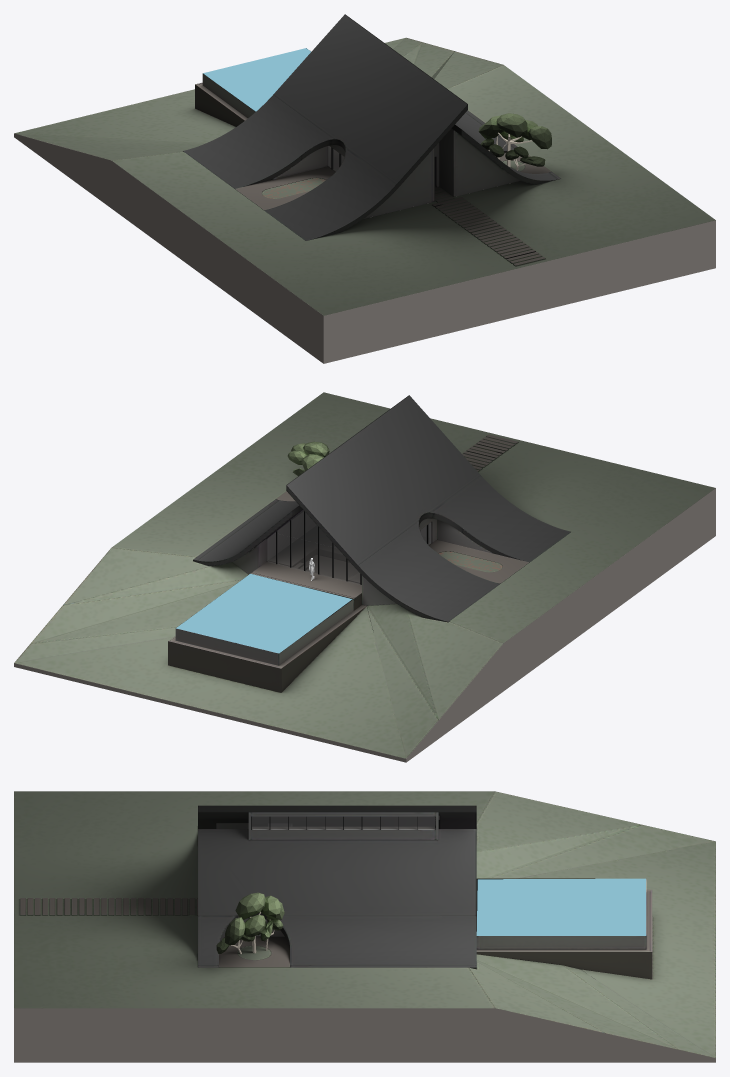
Rendered from cabana-tusa.glb.
3 views of the same model, one above another, from view 1: azimuth 30°, elevation 25°; view 2: azimuth 150°, elevation 25°; view 3: azimuth 270°, elevation 25° (orthographic). The views are drawn at different scales.
Visible parts, largest first — view 1: C-TOPO, TOPO, A-ROOF, I-WALL, A-FLOR, Plano, 3DGeom-1; view 2: C-TOPO, A-ROOF, TOPO, A-FLOR, Plano, I-WALL, A-GLAZ-CURT, 3DGeom-1; view 3: C-TOPO, A-ROOF, TOPO, Plano, A-FLOR, I-WALL, 3DGeom-1, A-GLAZ-CURT.
Boxes of the visible parts, x1,y1,x2,y2 form: C-TOPO: (14, 37, 715, 315); TOPO: (14, 133, 715, 363); A-ROOF: (183, 14, 560, 240); I-WALL: (202, 48, 520, 218); A-FLOR: (195, 82, 551, 265); Plano: (203, 48, 310, 111); 3DGeom-1: (478, 113, 551, 170); C-TOPO: (14, 392, 715, 758); A-ROOF: (193, 395, 570, 622); TOPO: (14, 488, 715, 762); A-FLOR: (168, 434, 528, 692); Plano: (176, 573, 352, 653); I-WALL: (175, 510, 492, 665); A-GLAZ-CURT: (267, 510, 430, 584); 3DGeom-1: (287, 441, 329, 476); C-TOPO: (14, 791, 715, 1058); A-ROOF: (198, 805, 476, 969); TOPO: (14, 859, 715, 1062); Plano: (476, 878, 645, 935); A-FLOR: (20, 826, 652, 979); I-WALL: (216, 812, 646, 949); 3DGeom-1: (216, 892, 284, 954); A-GLAZ-CURT: (244, 817, 434, 935).
Bounding box in the file's own units: 27.9 × 9.88 × 38.15.
Materials: 12 (6 with a texture image).
